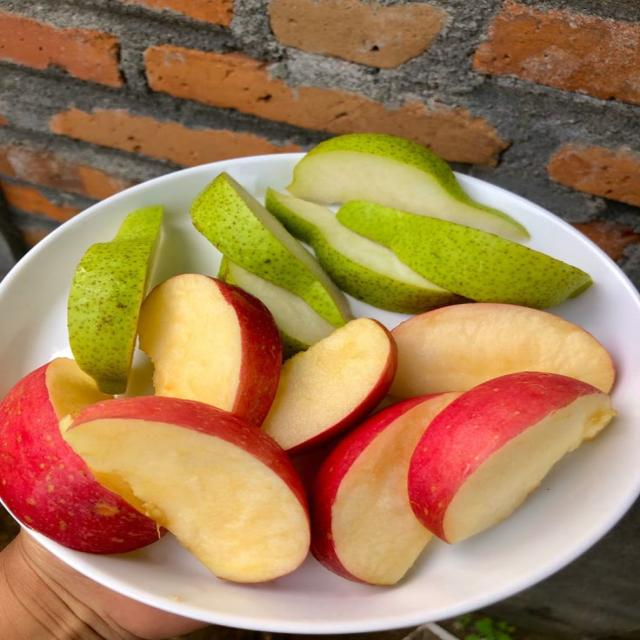apple: (61, 397, 310, 582), (408, 372, 614, 543), (0, 358, 161, 553), (311, 393, 460, 585), (139, 274, 281, 426), (391, 303, 615, 397), (262, 318, 397, 455), (67, 207, 163, 394)
